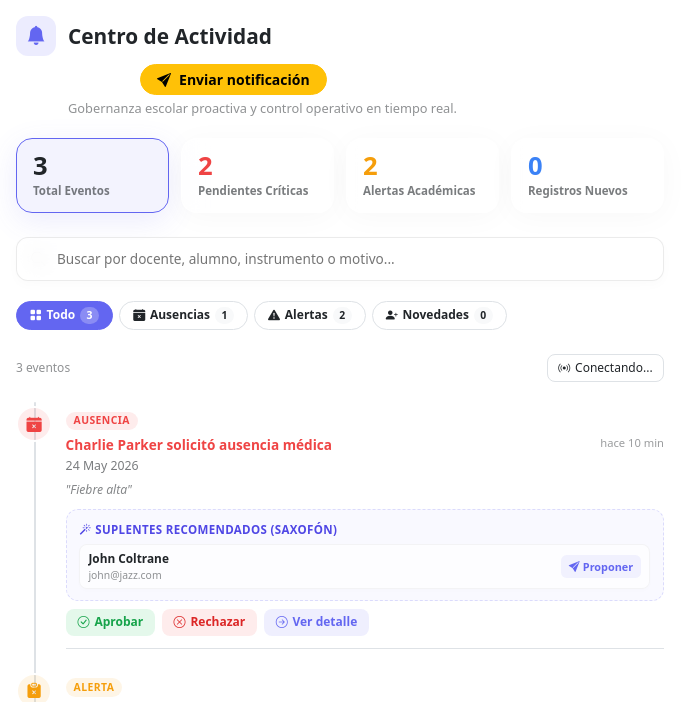
Test case: adminNotificacionesView Interface & Interactions › should perform in-place atomic transitions when approving absence inline
Click the button with class "anv-btn-approve" at (110, 622), box [66,609,155,636]
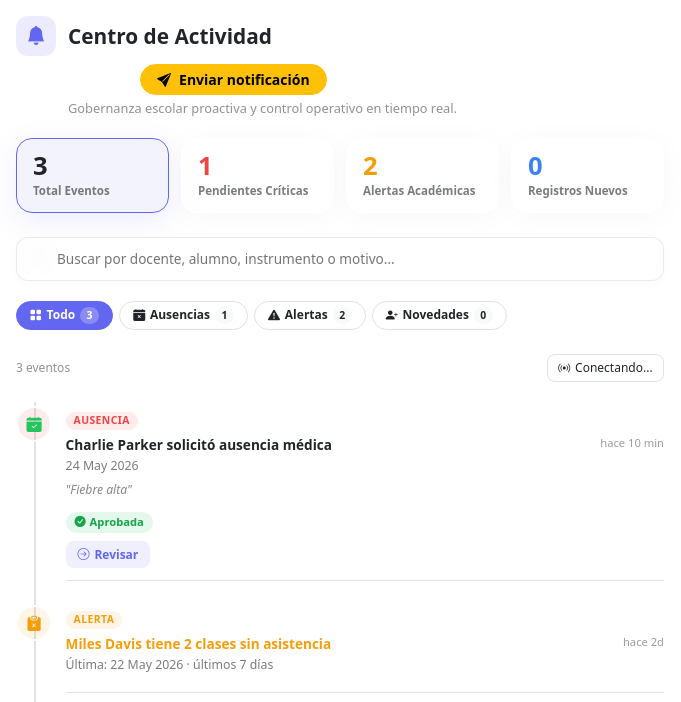
Check: the element with class "anv-estado-chip" reads "Aprobada", box [90,514,144,529]
Check: the button with class "anv-btn-approve" is gone
Check: the button with class "anv-btn-reject" is gone
